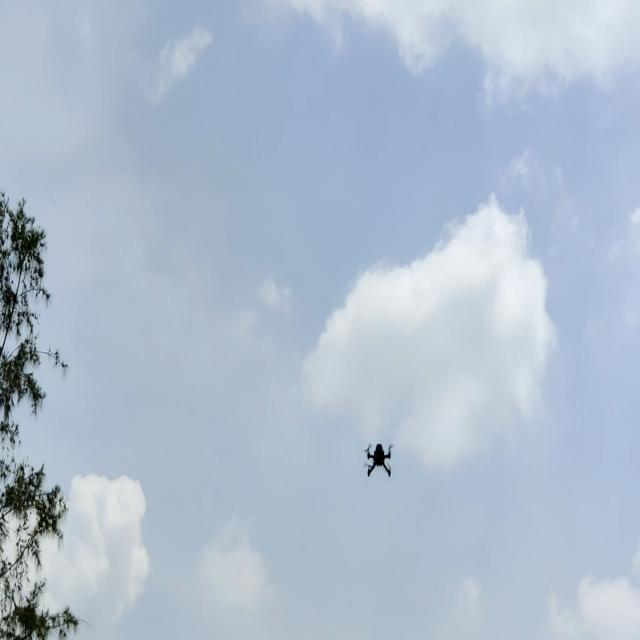drone: (360, 442, 400, 484)
